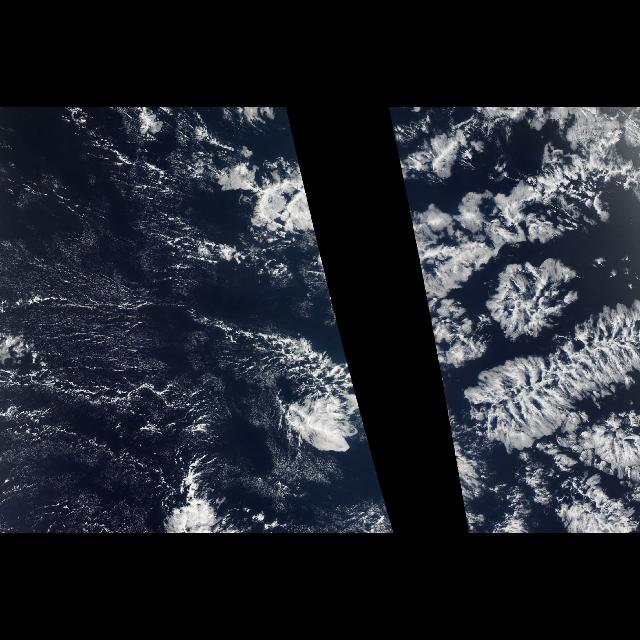Fish: (390, 109, 640, 534), (201, 138, 395, 532)
Sugar: (6, 132, 220, 484)
